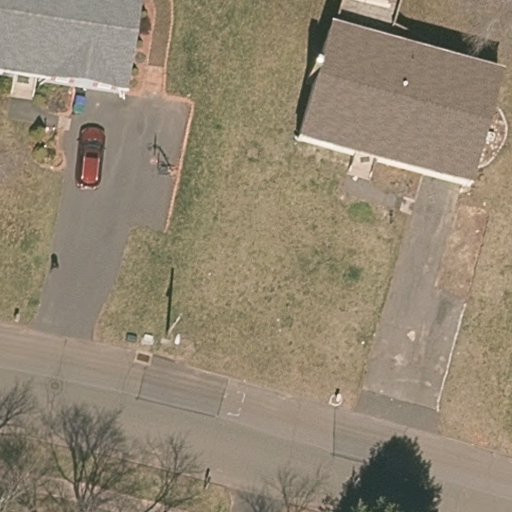DT: (159, 313, 185, 349)
